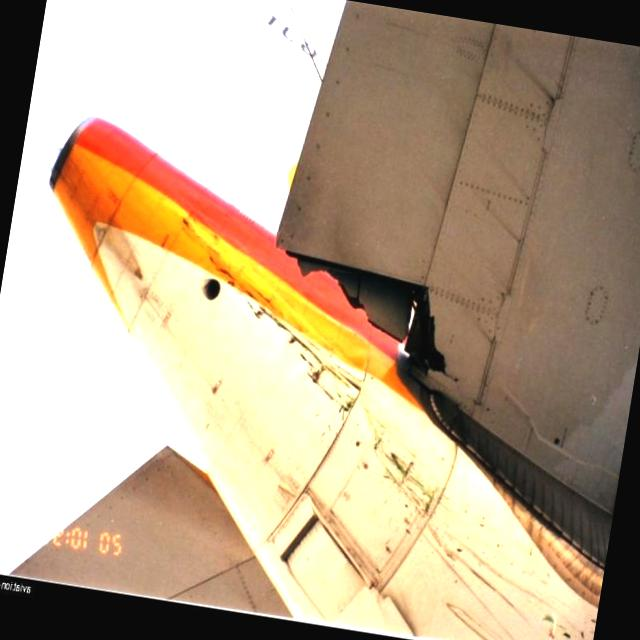crack: (301, 261, 442, 386)
